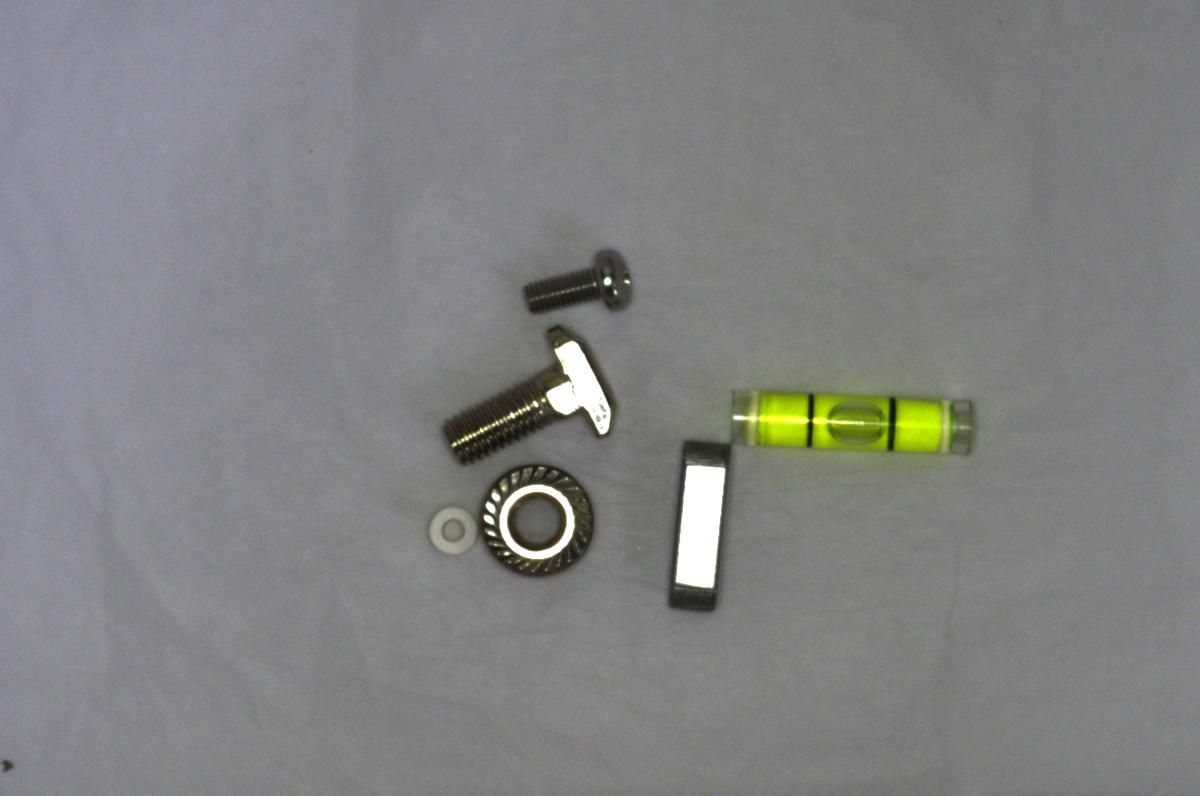Flange nut: (478, 460, 600, 585)
Horizontal bubble: (715, 369, 991, 468)
Keybar: (655, 434, 731, 616)
Plastic cushion pillar: (427, 498, 478, 558)
Round head screw: (519, 240, 641, 328)
T-shaped screw: (433, 316, 615, 454)
